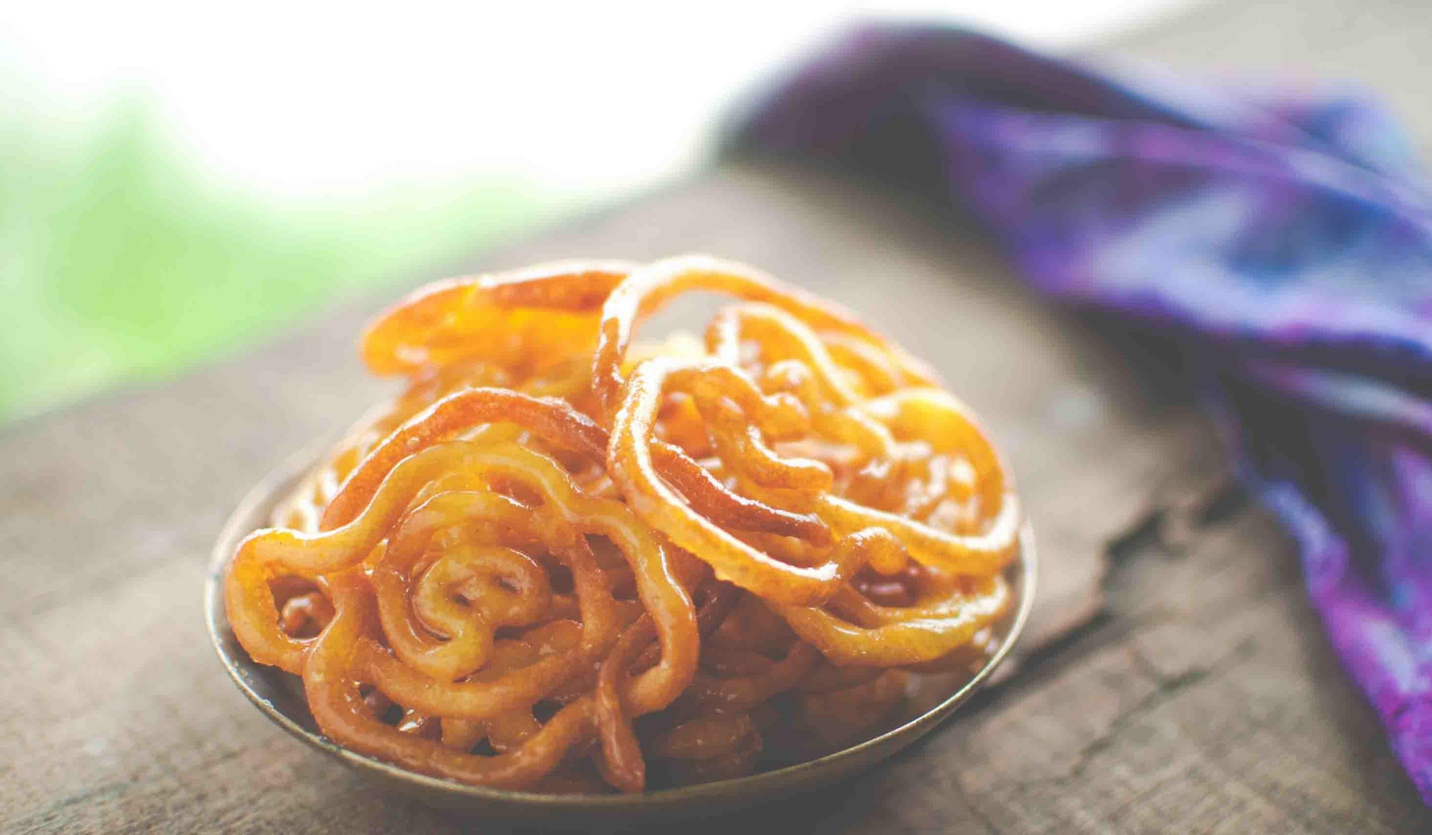Jalebi: (222, 249, 1021, 793)
